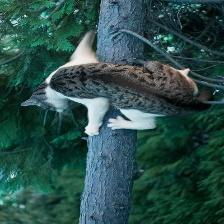kedo: (20, 29, 217, 135)
